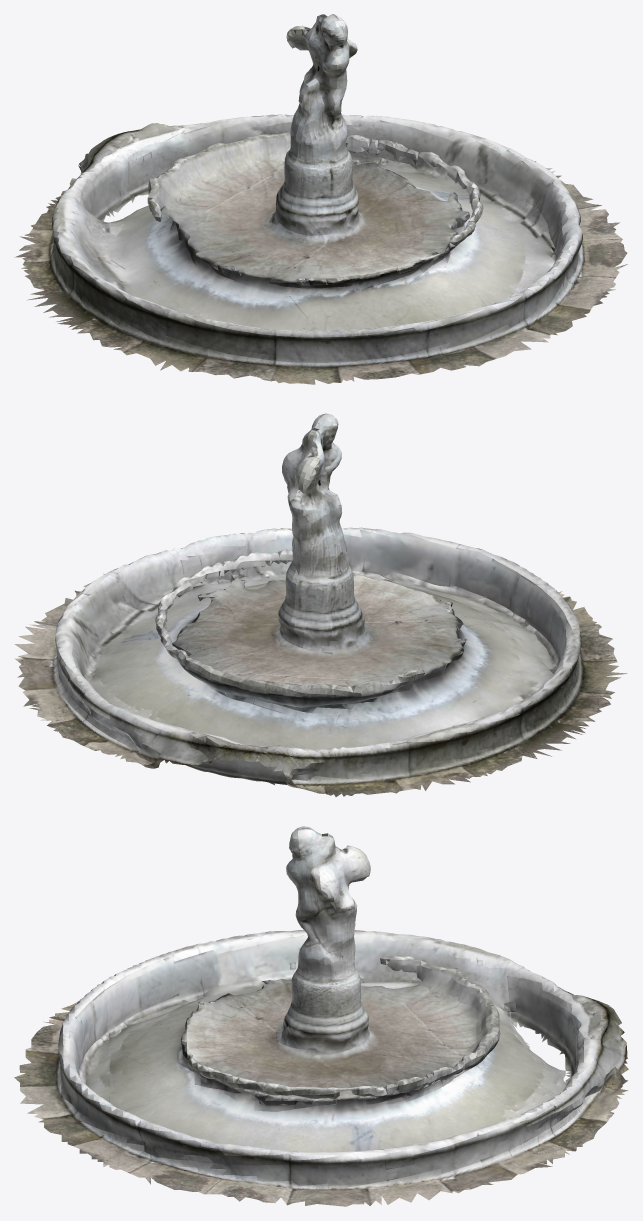
The model's file is M02_FuenteNinoAve.glb.
The picture shows the model from 3 angles, top to bottom: view 1: azimuth 30°, elevation 25°; view 2: azimuth 150°, elevation 25°; view 3: azimuth 270°, elevation 25°; orthographic projection.
Parts seen in each view (by area): view 1: modelo; view 2: modelo; view 3: modelo.
Part boxes in pixels (x1,y1,x2,y2): modelo: [14, 14, 627, 384]; modelo: [14, 413, 627, 796]; modelo: [14, 826, 628, 1206].
Bounding box in the file's own units: 2.55 × 1.21 × 2.54.
Materials: 1 (1 with a texture image).
